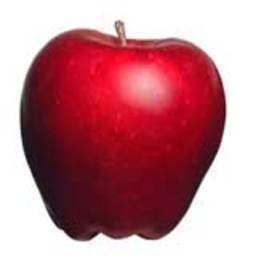apple: (20, 28, 226, 240)
